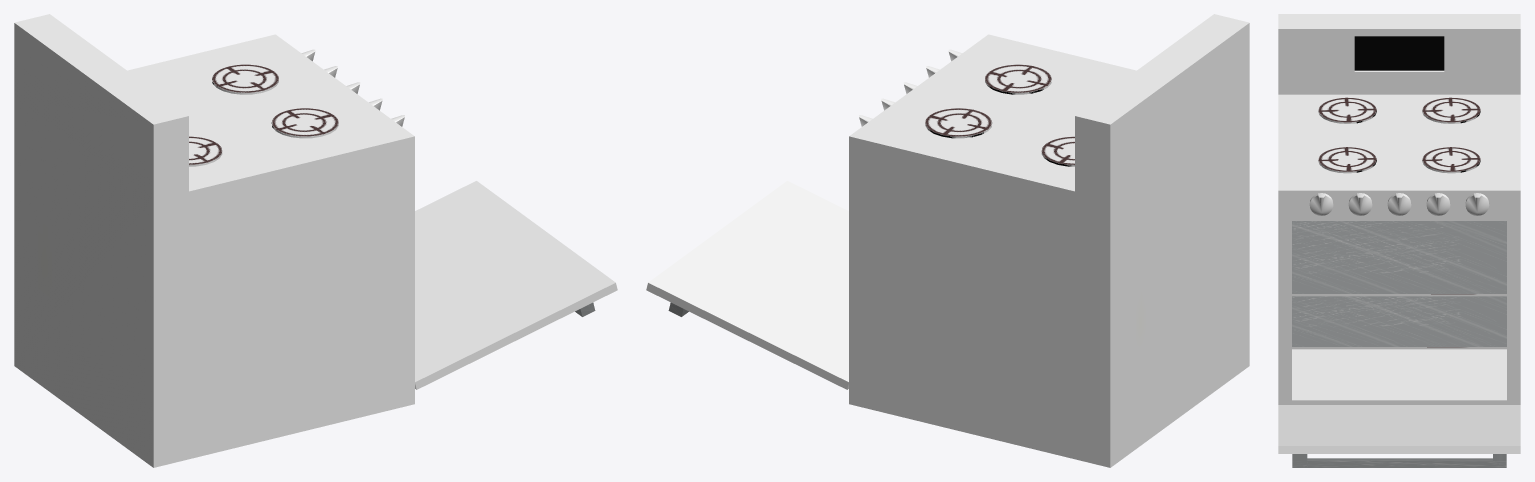
The model's file is stoveOven 1.fbx.
3 renders of one model, left to right at view 1: azimuth 30°, elevation 25°; view 2: azimuth 150°, elevation 25°; view 3: azimuth 270°, elevation 25°, orthographic. The views are drawn at different scales.
Parts seen in each view (by area): view 1: pCube5, polySurface2; view 2: pCube5, polySurface2; view 3: pCube5, polySurface2.
Part boxes in pixels (left/top/right/bottom): pCube5: left=14, top=14, right=414, bottom=467; polySurface2: left=415, top=181, right=617, bottom=389; pCube5: left=849, top=14, right=1249, bottom=467; polySurface2: left=646, top=181, right=848, bottom=389; pCube5: left=1278, top=14, right=1520, bottom=404; polySurface2: left=1278, top=405, right=1520, bottom=467.
Bounding box in the file's own units: 8.98 × 6.35 × 4.67.
1 material, 1 textured.
